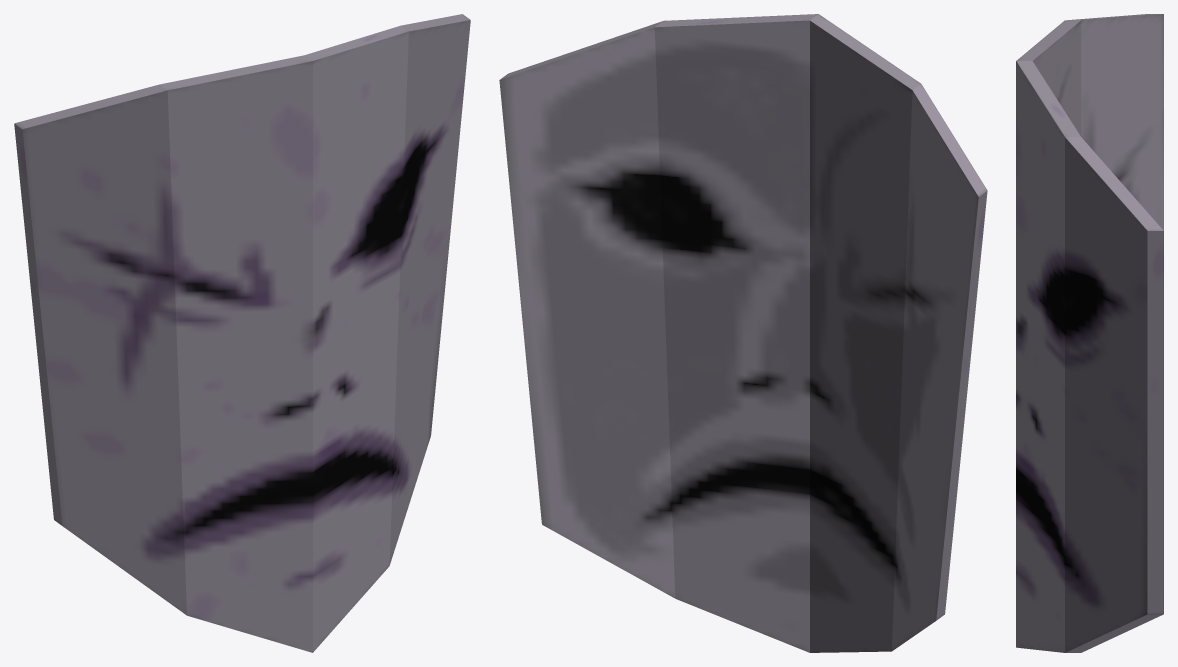
Rendered from Mask.fbx.
3 renders of one model, left to right at view 1: azimuth 30°, elevation 25°; view 2: azimuth 150°, elevation 25°; view 3: azimuth 270°, elevation 25°, orthographic. The views are drawn at different scales.
Parts seen in each view (by area): view 1: Mask; view 2: Mask; view 3: Mask.
Part boxes in pixels (x1,y1,x2,y2): Mask: (14,14,470,652); Mask: (499,14,987,652); Mask: (1016,14,1163,652).
Bounding box in the file's own units: 246 × 310 × 70.76.
